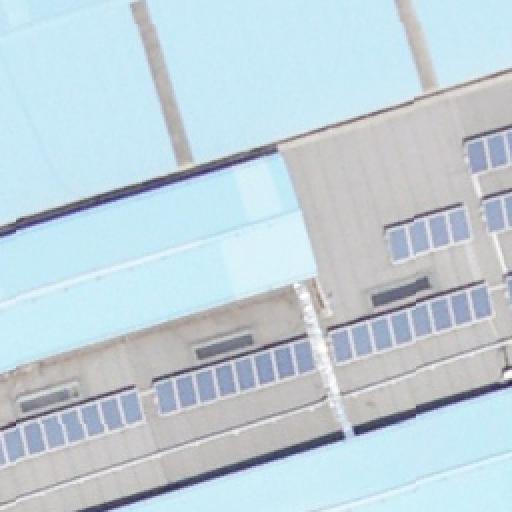solar-panel: (328, 281, 500, 367), (156, 336, 320, 416), (0, 385, 148, 463), (381, 206, 475, 262), (464, 125, 512, 179), (480, 193, 512, 239), (504, 271, 512, 305)
